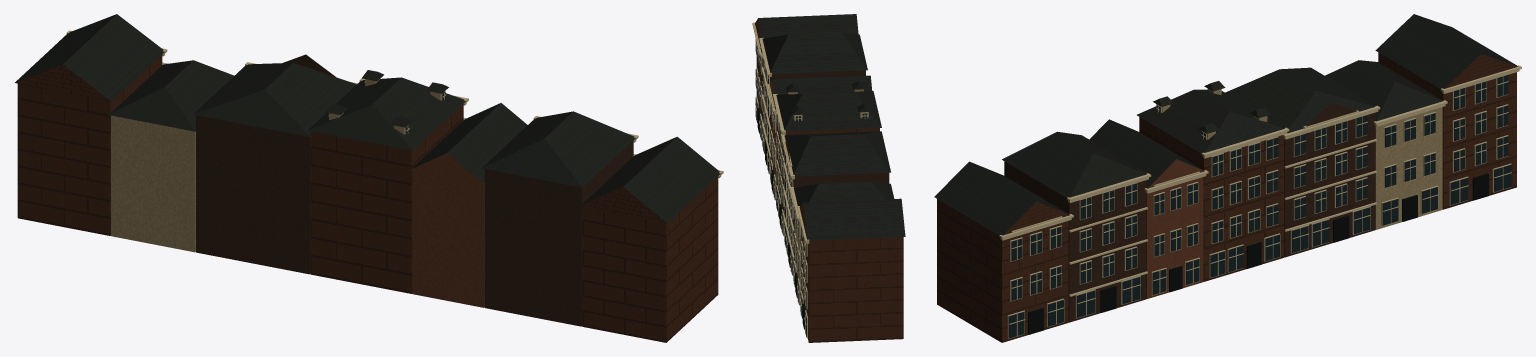
The picture shows the model from 3 angles, left to right: view 1: azimuth 30°, elevation 25°; view 2: azimuth 150°, elevation 25°; view 3: azimuth 270°, elevation 25°; orthographic projection. The views are drawn at different scales.
Parts seen in each view (by area): view 1: westnieuwland-0, westnieuwland-1, westnieuwland-5, westnieuwland-7, westnieuwland-6; view 2: westnieuwland-1, westnieuwland-0, westnieuwland-2, westnieuwland-3, westnieuwland-5, westnieuwland-4, westnieuwland-7, westnieuwland-6; view 3: westnieuwland-1, westnieuwland-0, westnieuwland-3, westnieuwland-2, westnieuwland-5, westnieuwland-7, westnieuwland-6, westnieuwland-4.
Boxes of the visible parts, <box> form: westnieuwland-0: <box>15,55,718,342</box>; westnieuwland-1: <box>15,14,720,223</box>; westnieuwland-5: <box>196,54,633,326</box>; westnieuwland-7: <box>111,79,440,252</box>; westnieuwland-6: <box>409,153,484,307</box>; westnieuwland-1: <box>758,14,905,240</box>; westnieuwland-0: <box>755,18,903,342</box>; westnieuwland-2: <box>752,22,867,338</box>; westnieuwland-3: <box>755,39,867,337</box>; westnieuwland-5: <box>764,70,889,260</box>; westnieuwland-4: <box>757,108,805,329</box>; westnieuwland-7: <box>788,89,868,290</box>; westnieuwland-6: <box>769,80,776,185</box>; westnieuwland-1: <box>934,14,1517,235</box>; westnieuwland-0: <box>937,52,1517,342</box>; westnieuwland-3: <box>1008,75,1511,338</box>; westnieuwland-2: <box>999,65,1521,339</box>; westnieuwland-5: <box>1004,103,1375,322</box>; westnieuwland-7: <box>1156,89,1442,229</box>; westnieuwland-6: <box>1146,159,1204,298</box>; westnieuwland-4: <box>1028,173,1488,334</box>.
Size of the model in its own units: 54.4 by 19.3 by 68.45.
8 materials, 8 textured.
